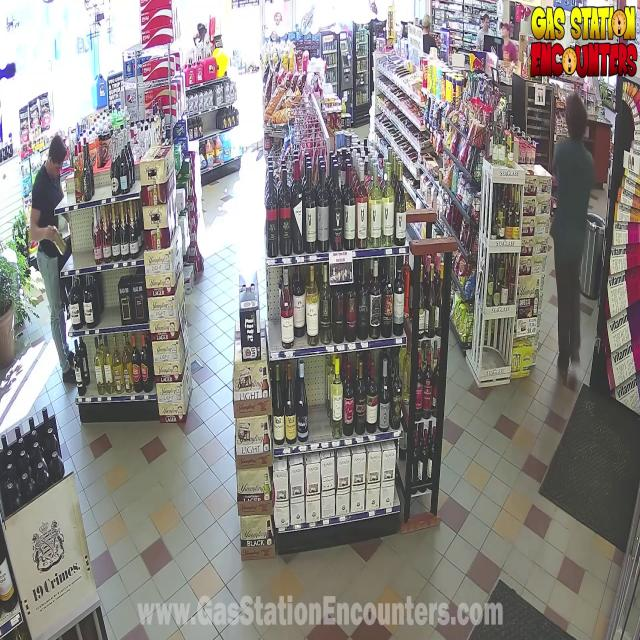Product: (45, 220, 70, 256)
normal: (522, 98, 623, 375), (463, 9, 496, 56)
shoplifting: (3, 96, 85, 412)
